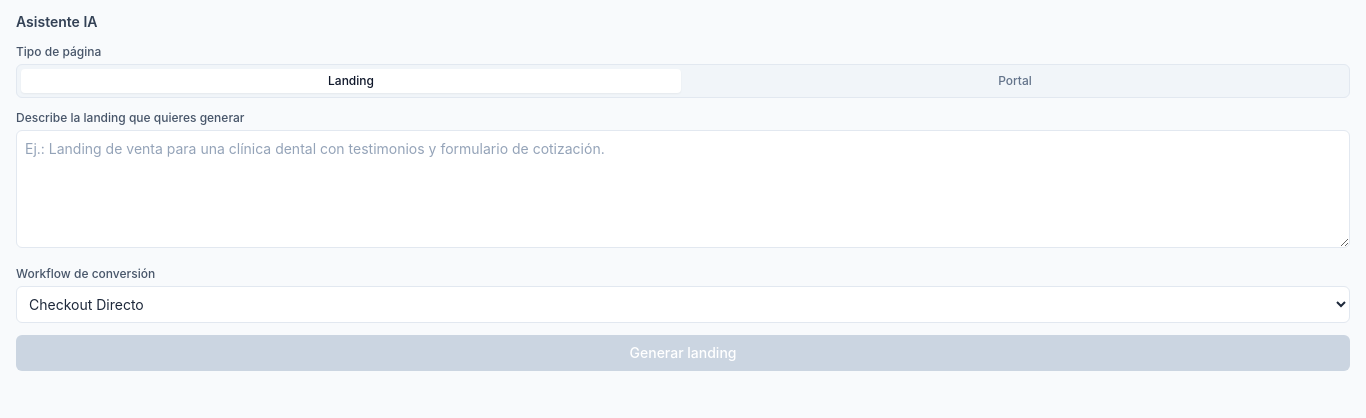
Scenario: AIPanel › muestra el mensaje de error de forma accesible
Type "Genera algo" into the text box labelled "Describe la landing que quieres generar" at (683, 189), box [16,130,1350,248]
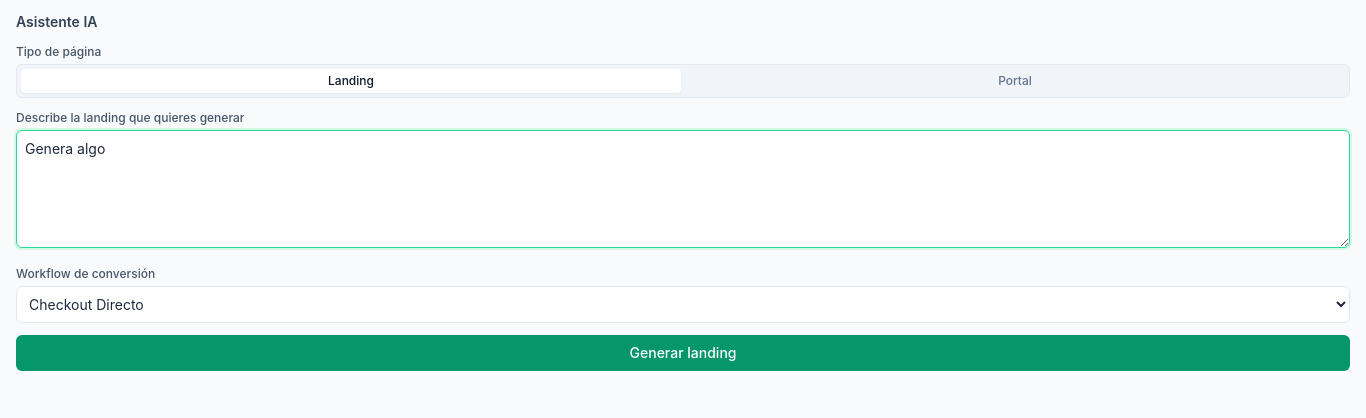
Click the button "Generar landing" at (683, 353), box [16,335,1350,371]
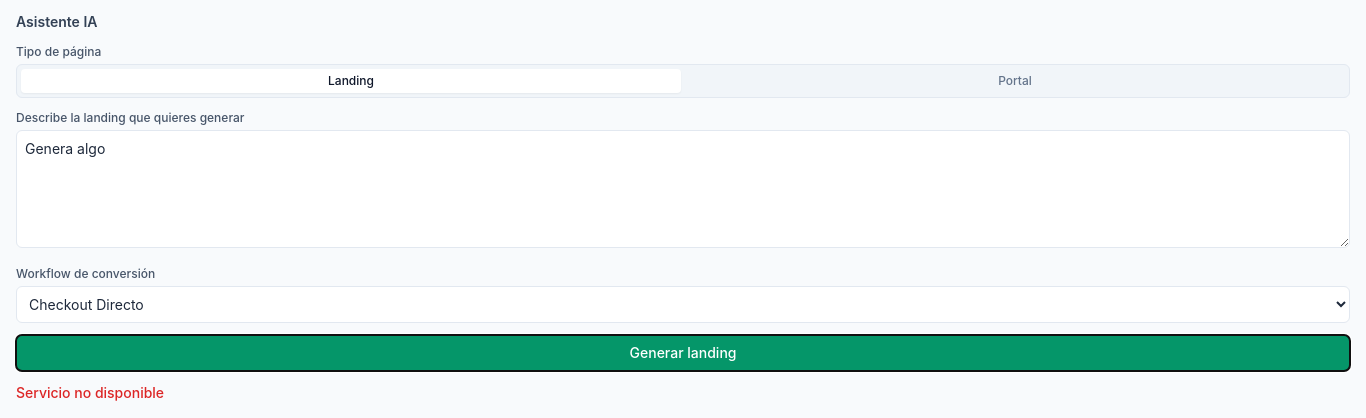
Result: the message reads "Servicio no disponible" at [16,384,164,401]
